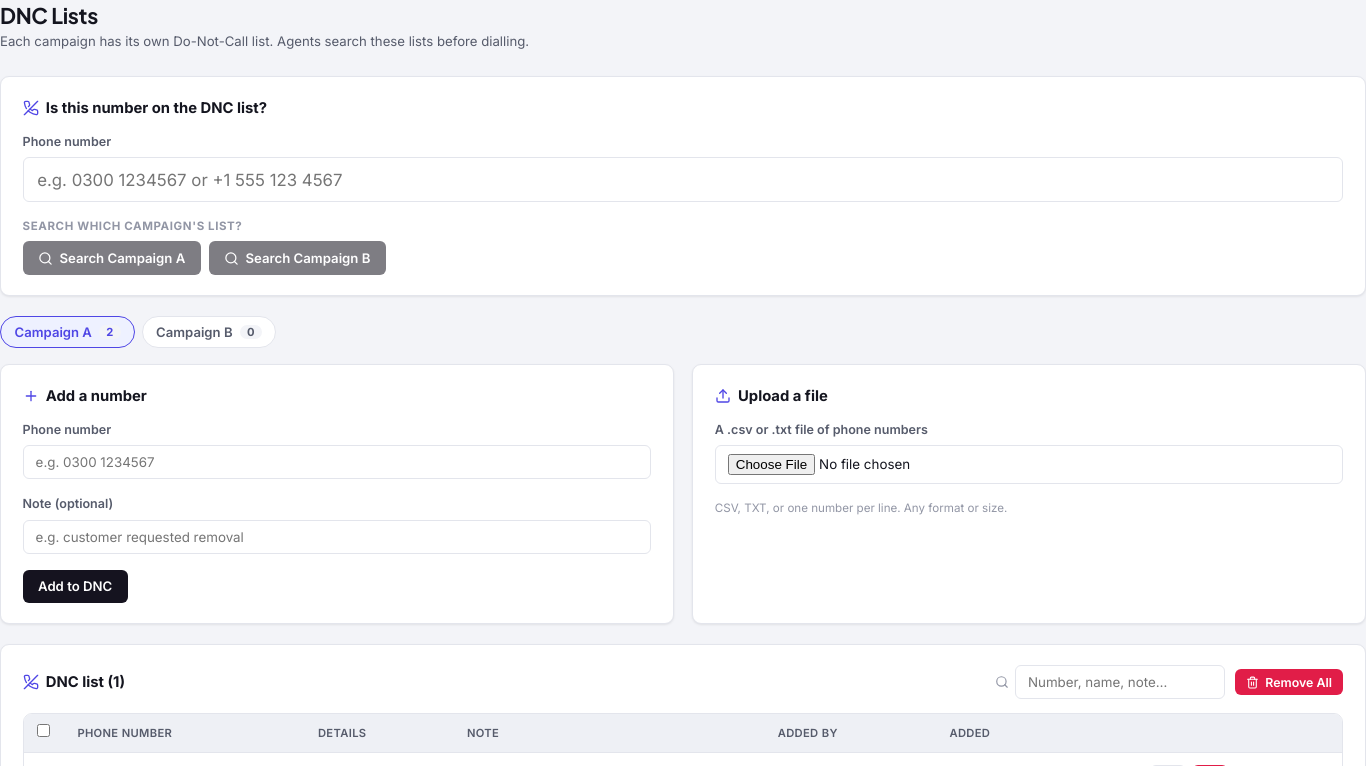
Test case: DncManagement › adds a single number (with a note) to the selected campaign
Type "0321 5550100" into the field labelled "Phone number" below "Add a number" at (337, 462), box [23, 445, 651, 479]
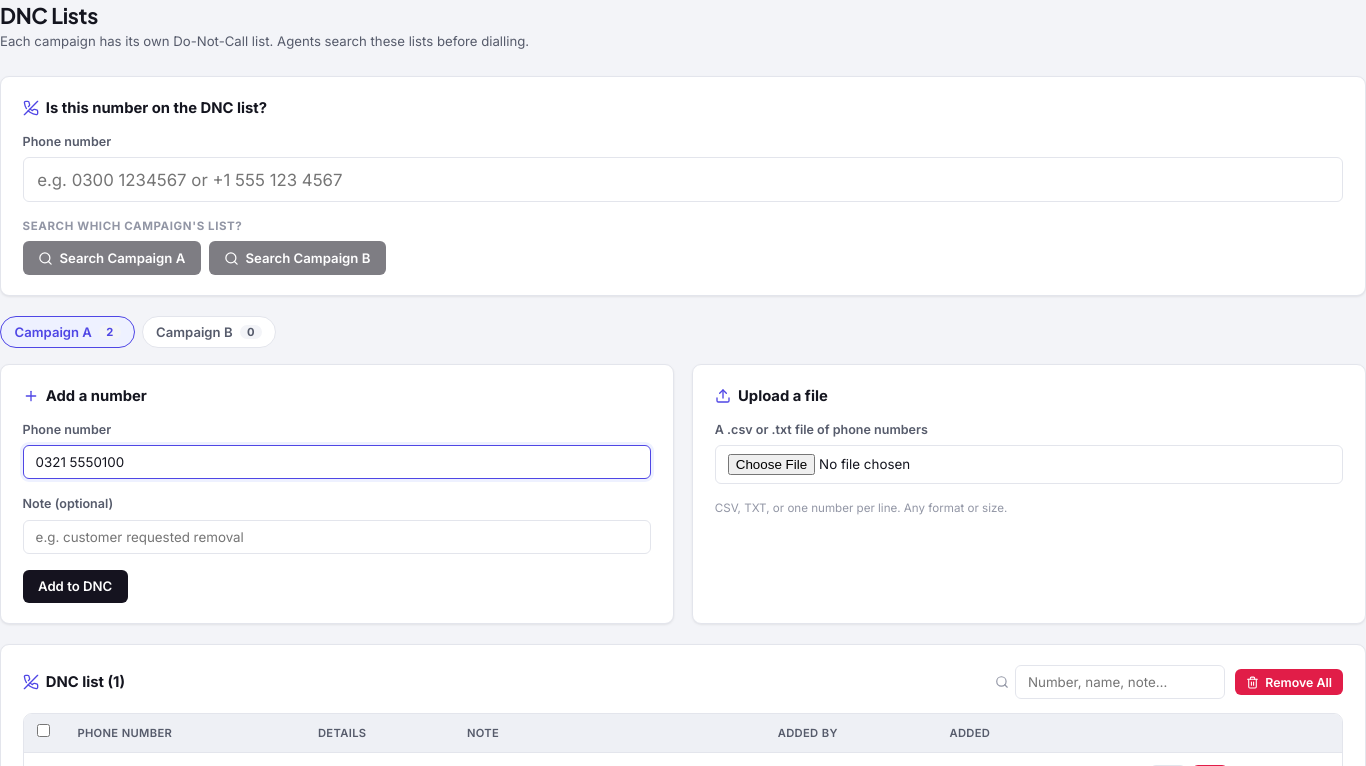
Type "complaint" into the field labelled "Note (optional)" at (337, 537), box [23, 520, 651, 554]
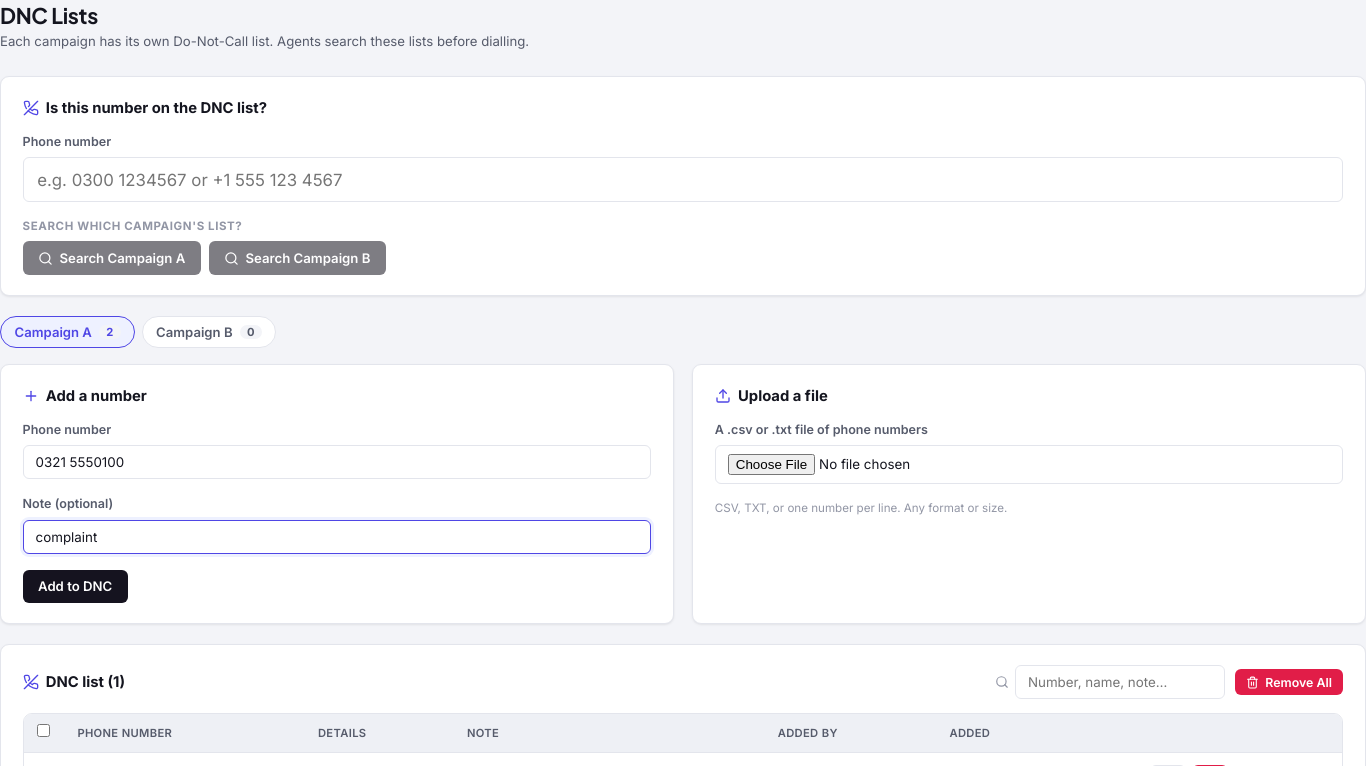
Click the button "Add to DNC" at (75, 586), box [23, 570, 128, 603]
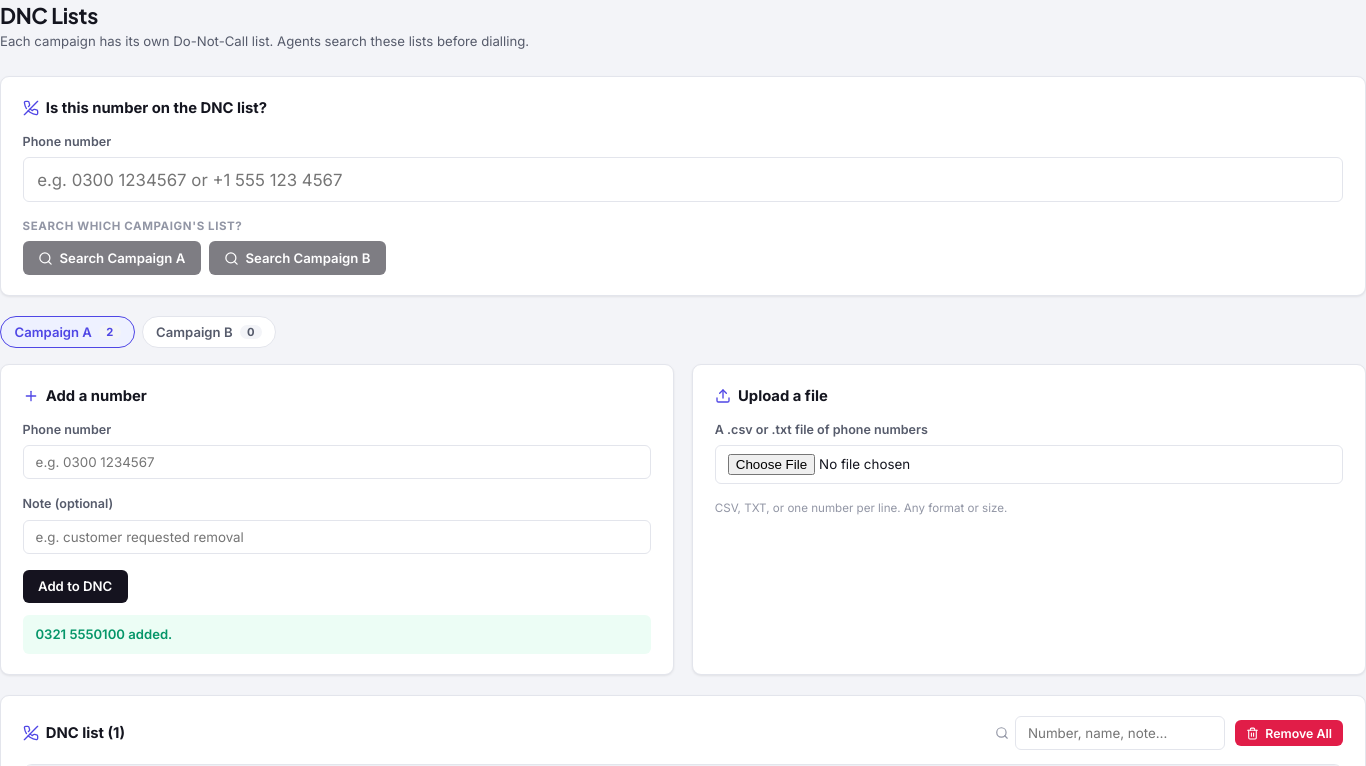
Result: the text "0321 5550100 added." is shown at [23, 615, 651, 654]
